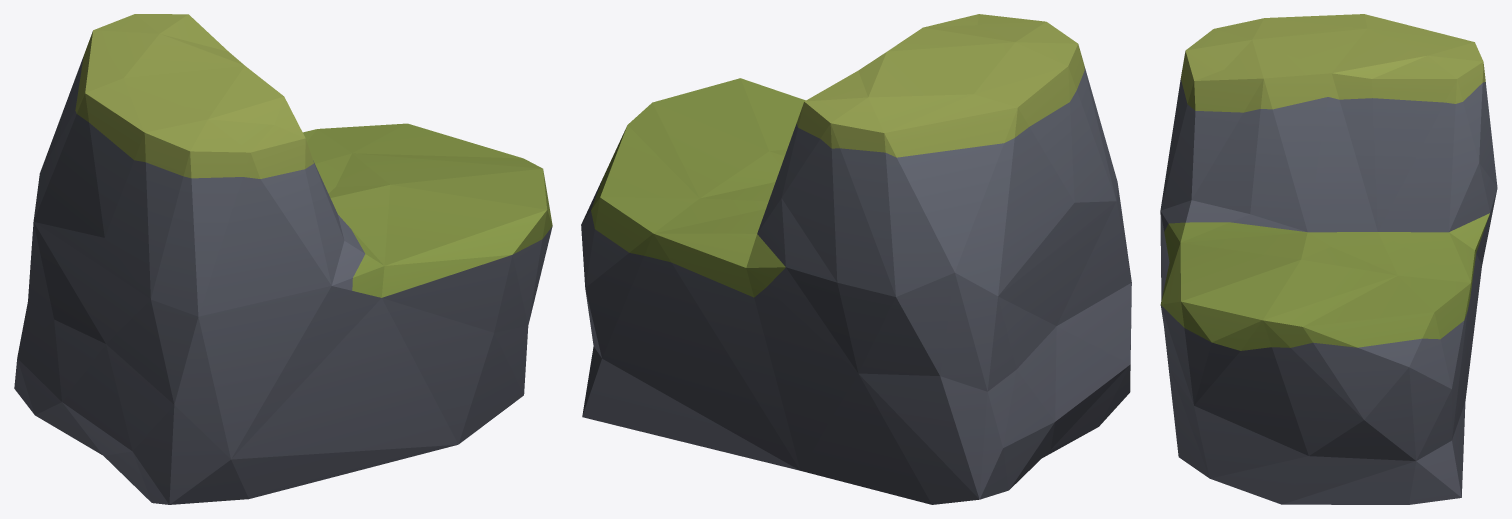
Rendered from Rockwithgrass_02.fbx.
3 renders of one model, left to right at view 1: azimuth 30°, elevation 25°; view 2: azimuth 150°, elevation 25°; view 3: azimuth 270°, elevation 25°, orthographic. The views are drawn at different scales.
Parts seen in each view (by area): view 1: Rockwithgrass_02; view 2: Rockwithgrass_02; view 3: Rockwithgrass_02.
Boxes of the visible parts, box(x1,y1,x2,y2) form: Rockwithgrass_02: box(14, 14, 552, 504); Rockwithgrass_02: box(581, 14, 1131, 504); Rockwithgrass_02: box(1160, 14, 1497, 504).
Size of the model in its own units: 7.53 by 6.07 by 5.45.
